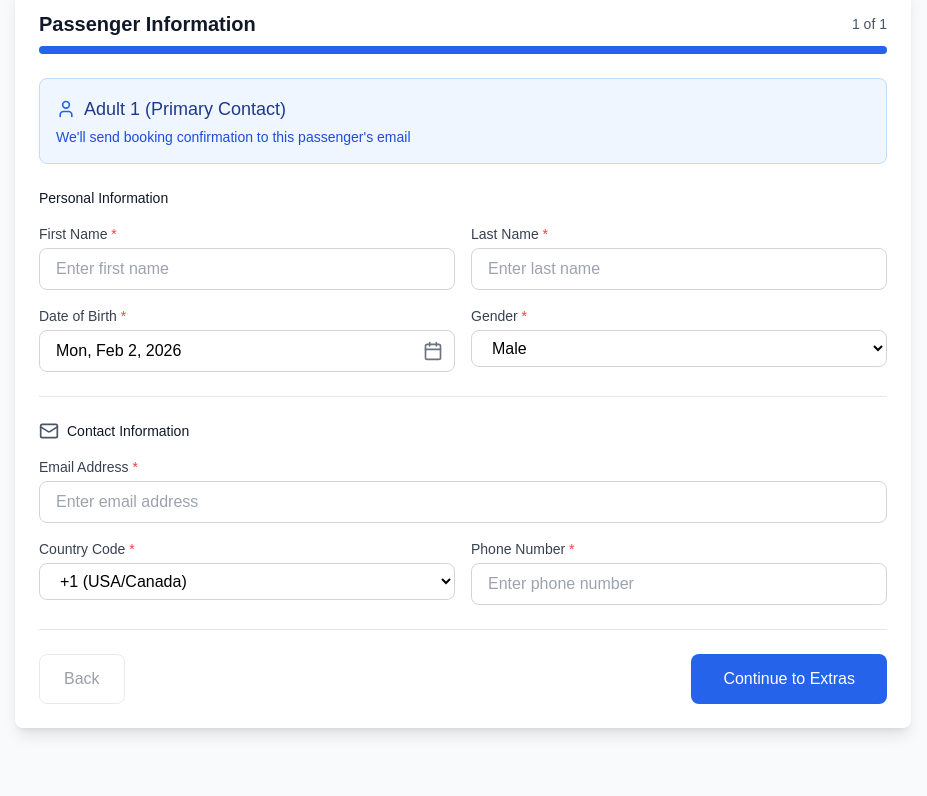
PassengerForm › Validation - Basic Fields › shows error for empty first name
The width and height of the screenshot is (927, 796).
Click the button "Continue to Extras".
click(789, 679)  # box [691,654,887,704]
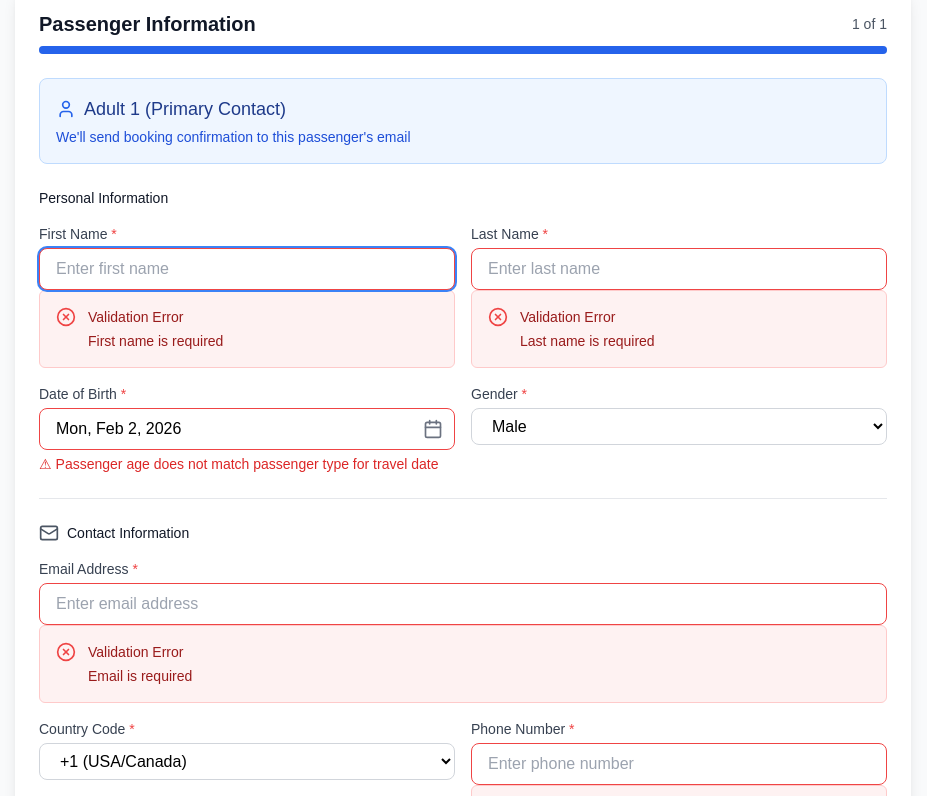
Expected: the text "First name is required" is shown, [88,333,223,349]
